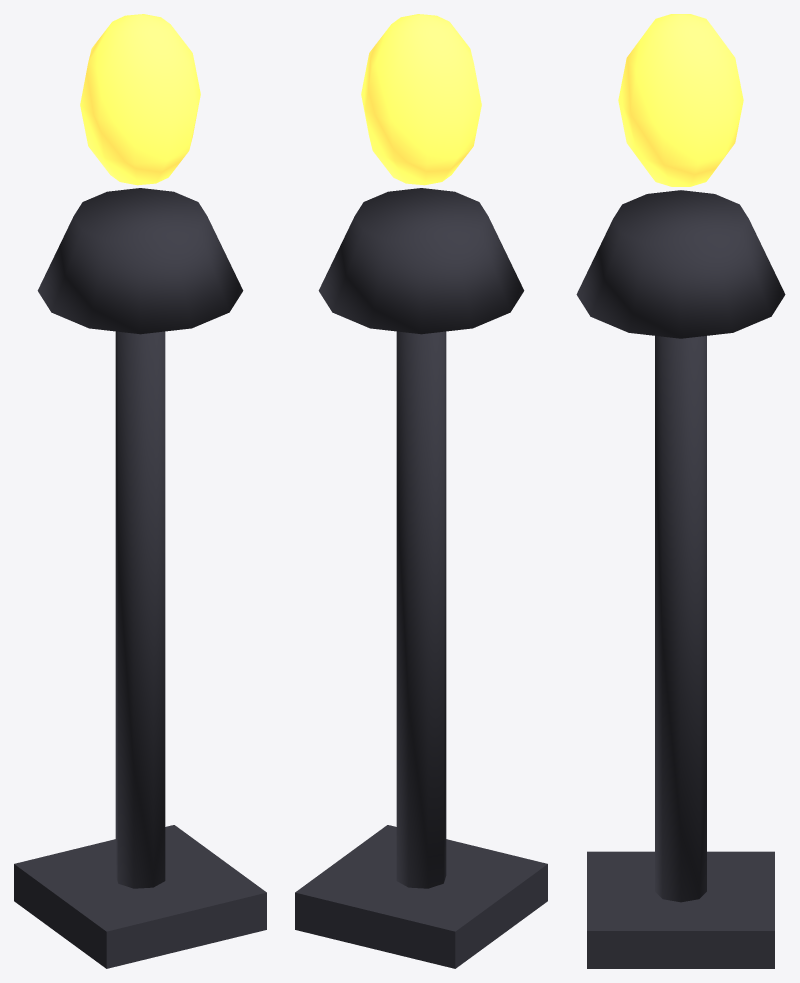
Rendered from hrad-pochodne.glb.
3 views of the same model, side by side, from view 1: azimuth 30°, elevation 25°; view 2: azimuth 150°, elevation 25°; view 3: azimuth 270°, elevation 25° (orthographic).
Parts seen in each view (by area): view 1: hrad-pochodne; view 2: hrad-pochodne; view 3: hrad-pochodne.
Boxes of the visible parts, x1=… form: hrad-pochodne: x1=14, y1=14, x2=266, y2=968; hrad-pochodne: x1=295, y1=14, x2=547, y2=968; hrad-pochodne: x1=576, y1=14, x2=785, y2=968.
Size of the model in its own units: 0.4 by 1.93 by 0.4.
